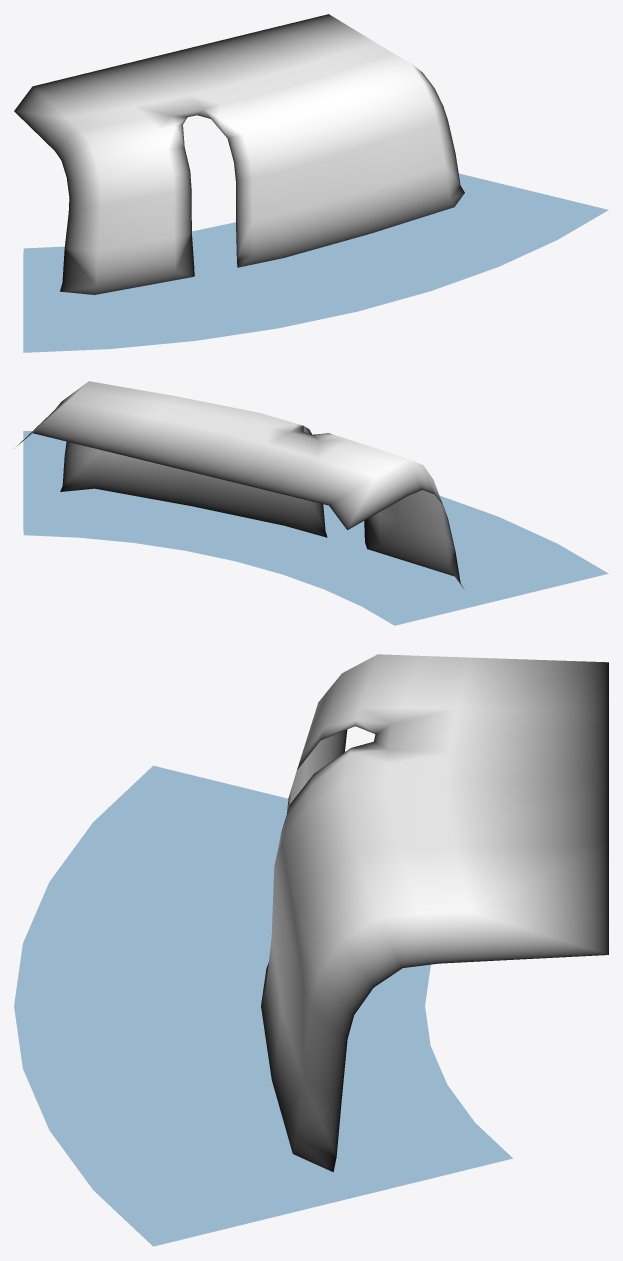
File: SM_WaterfallSplit1.fbx
The picture shows the model from 3 angles, top to bottom: view 1: azimuth 30°, elevation 25°; view 2: azimuth 150°, elevation 25°; view 3: azimuth 270°, elevation 25°; orthographic projection. The views are drawn at different scales.
Parts seen in each view (by area): view 1: SM_WaterfallSplit1; view 2: SM_WaterfallSplit1; view 3: SM_WaterfallSplit1.
Boxes of the visible parts, x1=… form: SM_WaterfallSplit1: x1=14, y1=14, x2=608, y2=352; SM_WaterfallSplit1: x1=14, y1=381, x2=608, y2=625; SM_WaterfallSplit1: x1=14, y1=654, x2=608, y2=1246.
Bounding box in the file's own units: 1763 × 382 × 921.
